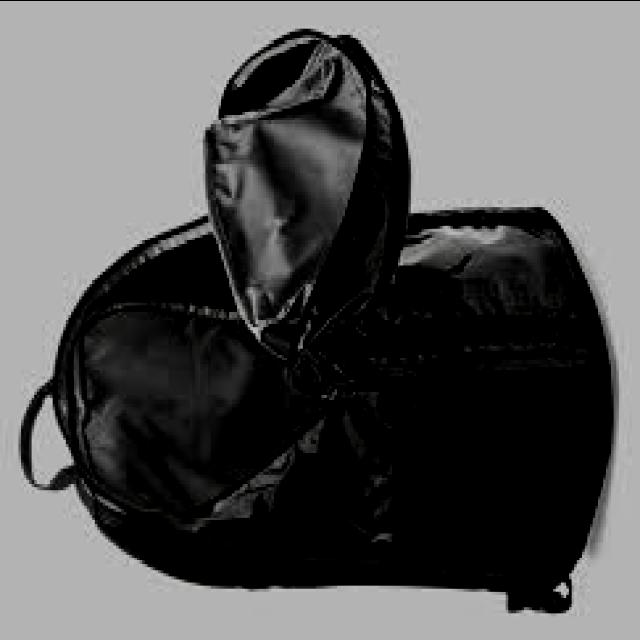backpack: (17, 29, 612, 617)
